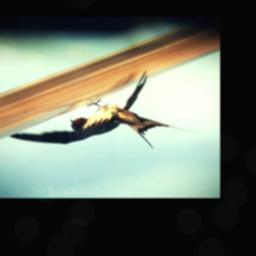Swallow: (6, 71, 200, 151)
